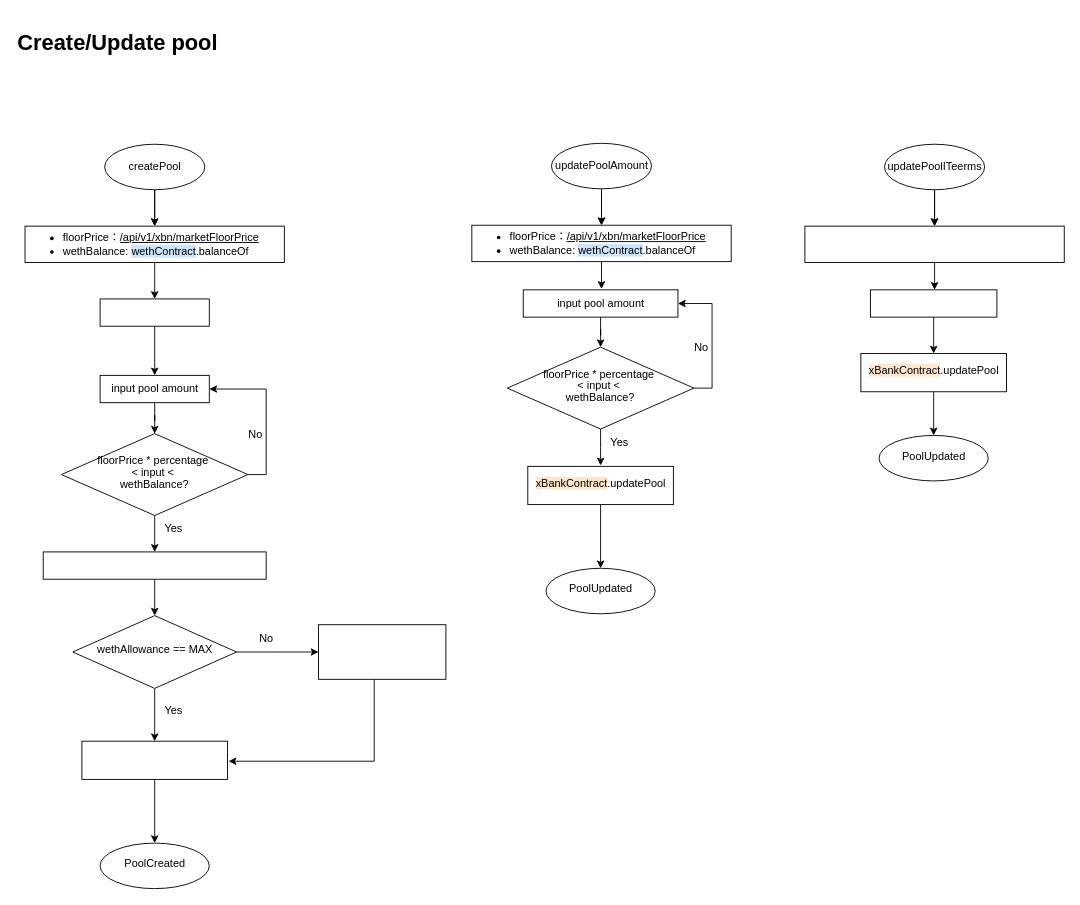
Image size: 1080x905. Some labels were removed from this diagram. Each missing label, with the centre of its shape:
edit pool terms: the point at 933,303
floorPrice： /api/v1/xbn/marketFloorPrice: the point at 934,244
input pool terms: the point at 154,312
wethAllowance: wethContract .allowance: the point at 154,565
wethContract .approve: the point at 382,651
xBankContract .createPool: the point at 154,759
